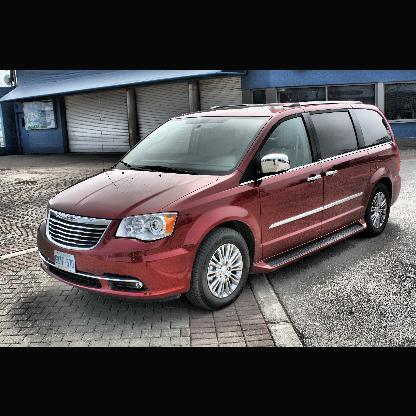Chrysler Town and Country Minivan 2012: (38, 101, 402, 310)
